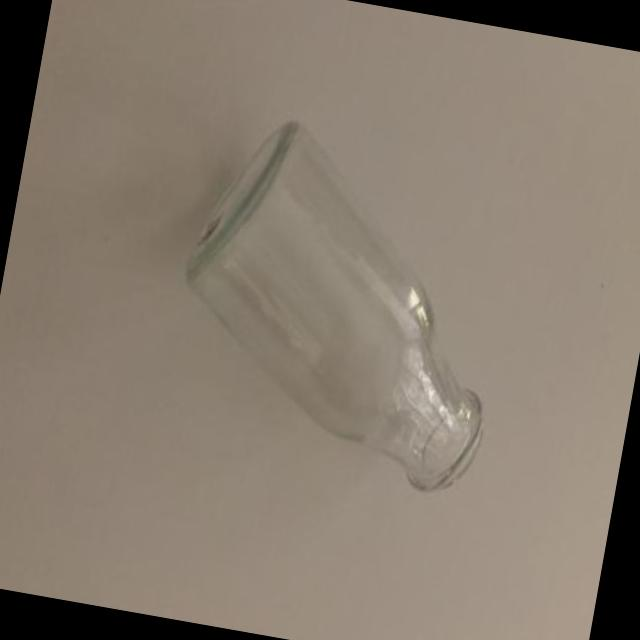chai_thuy_tinh: (182, 122, 482, 495)
